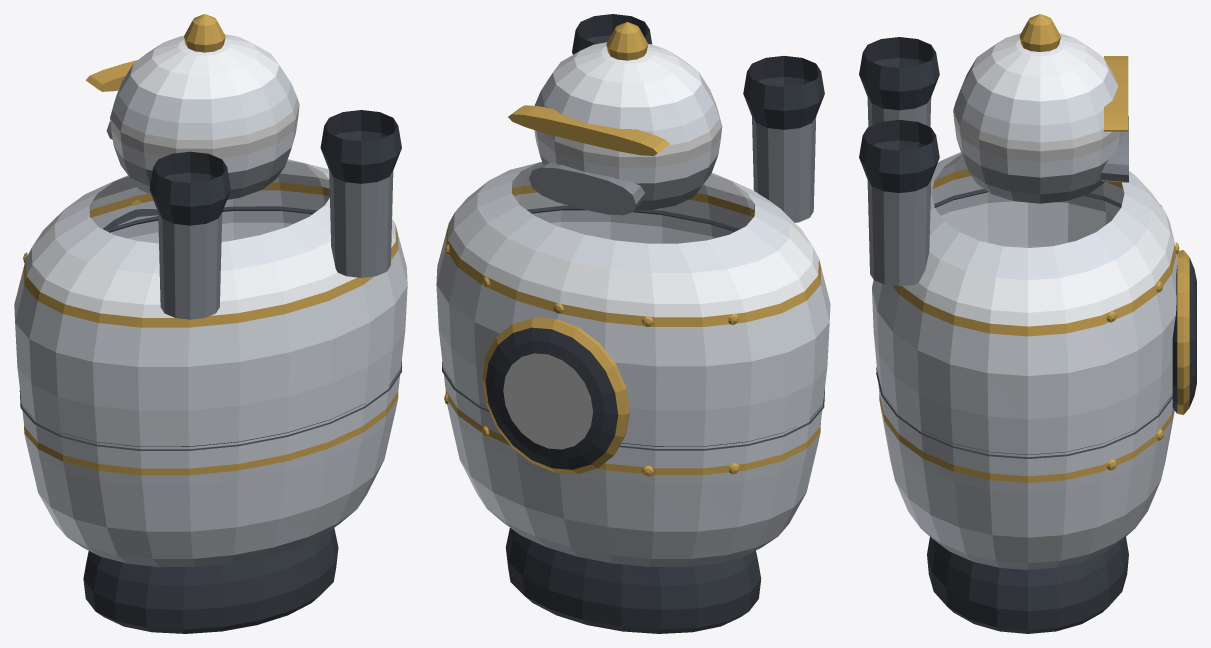
Rendered from CreatureGolem.obj.
3 views of the same model, side by side, from view 1: azimuth 30°, elevation 25°; view 2: azimuth 150°, elevation 25°; view 3: azimuth 270°, elevation 25° (orthographic).
Size of the model in its own units: 3.4 by 5.12 by 2.76.
